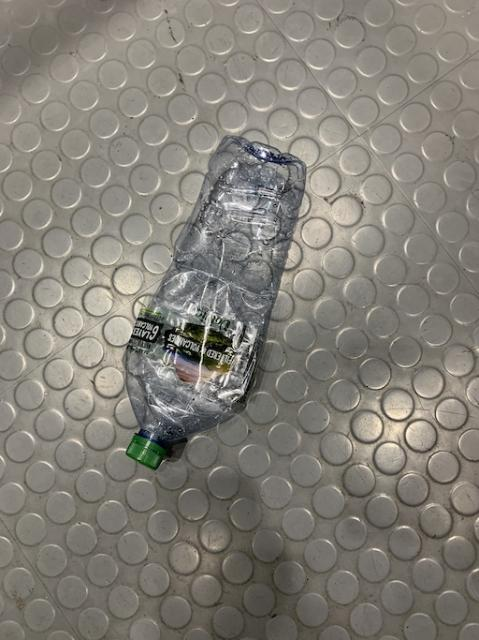plastic: (125, 135, 305, 468)
